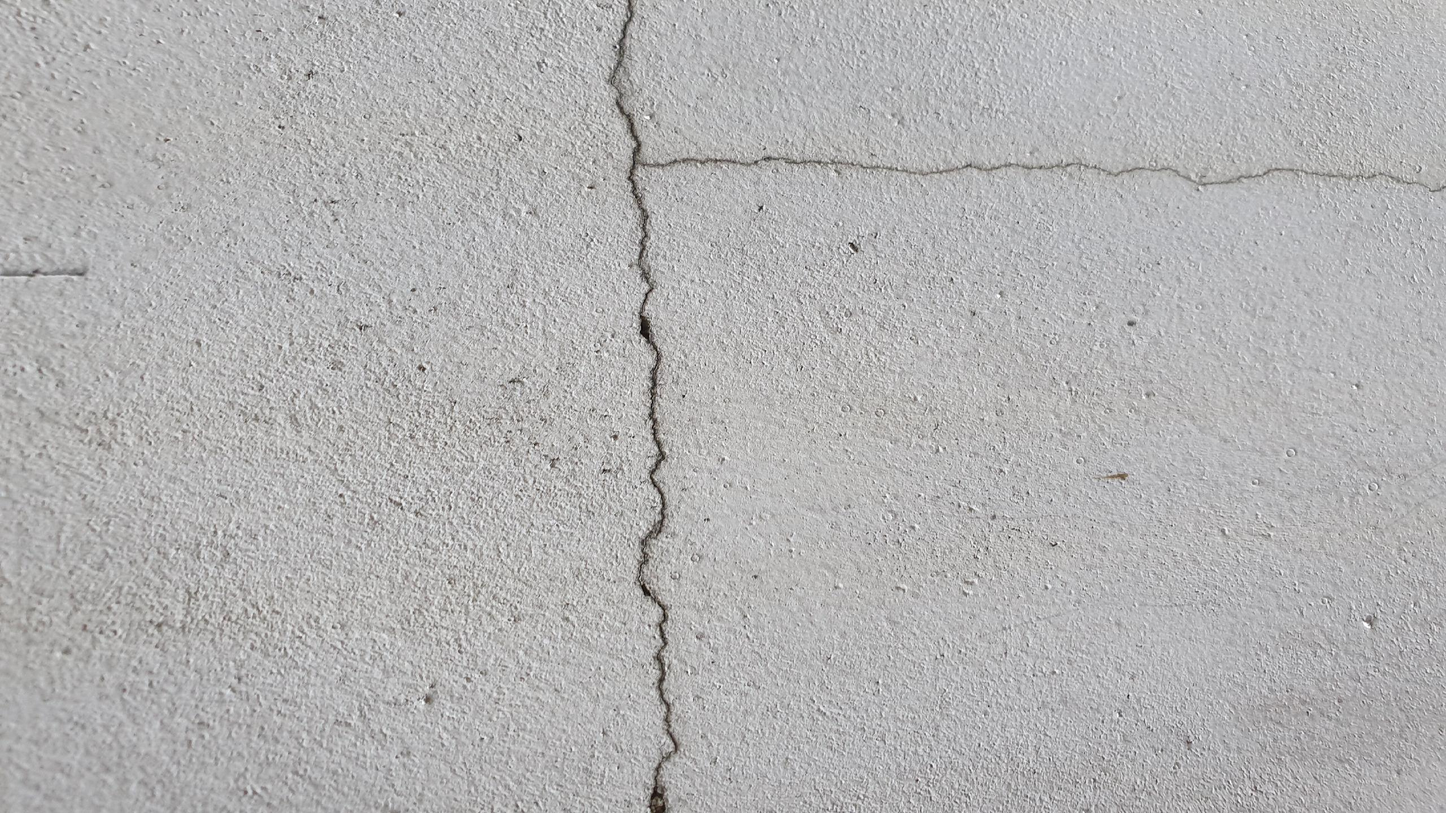crack: (608, 1, 1445, 812)
